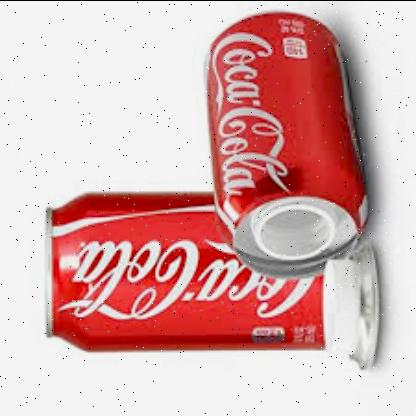Can: (43, 193, 333, 353), (208, 13, 366, 281), (348, 247, 375, 370)
